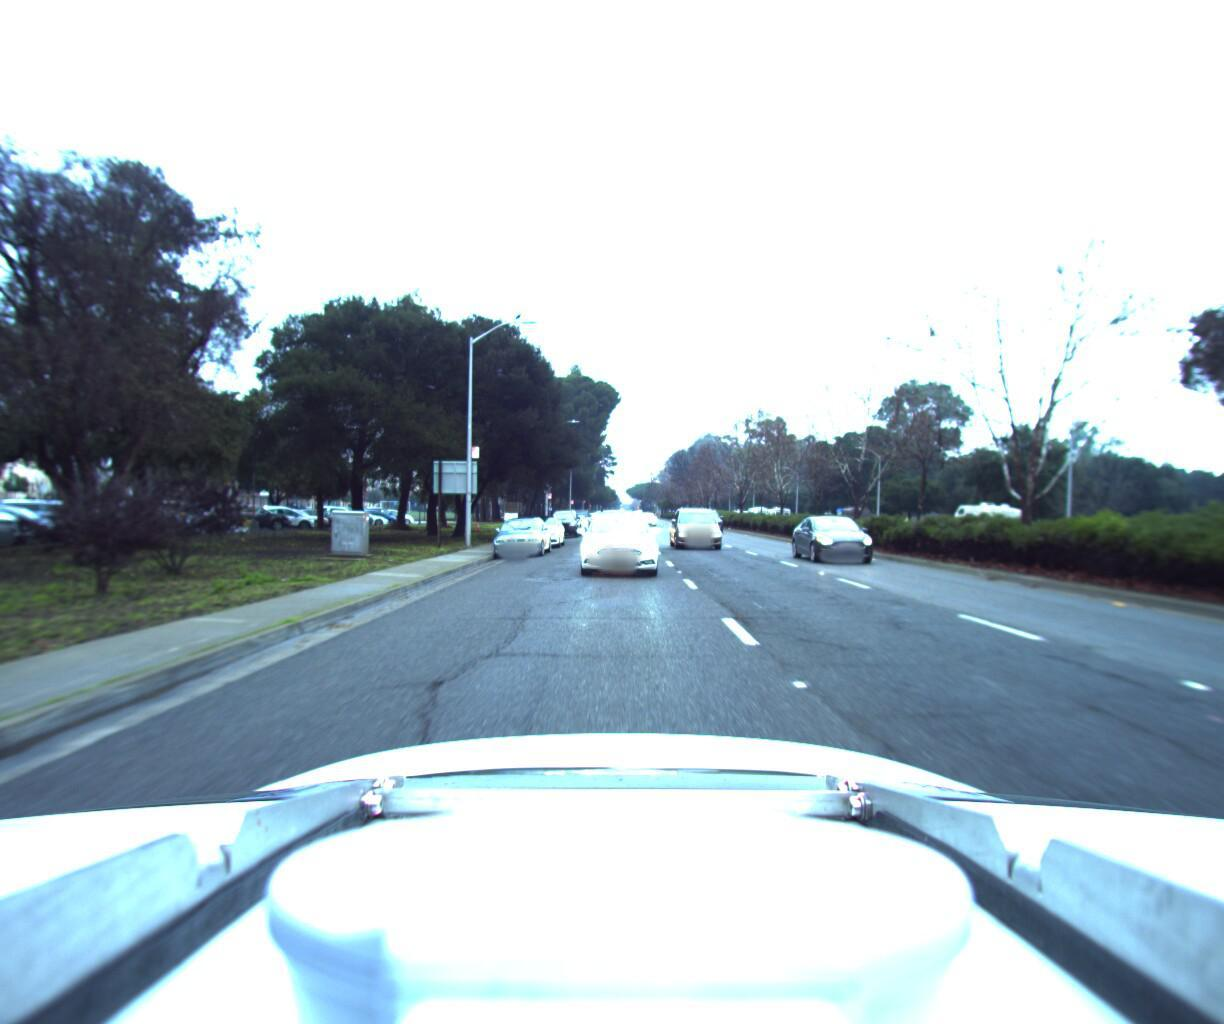car: (576, 507, 656, 580), (793, 508, 891, 561), (665, 498, 731, 546), (488, 508, 551, 556), (514, 507, 566, 548), (544, 500, 582, 532), (593, 504, 619, 528), (639, 503, 659, 520)
other_vehicle: (950, 492, 1027, 525)
